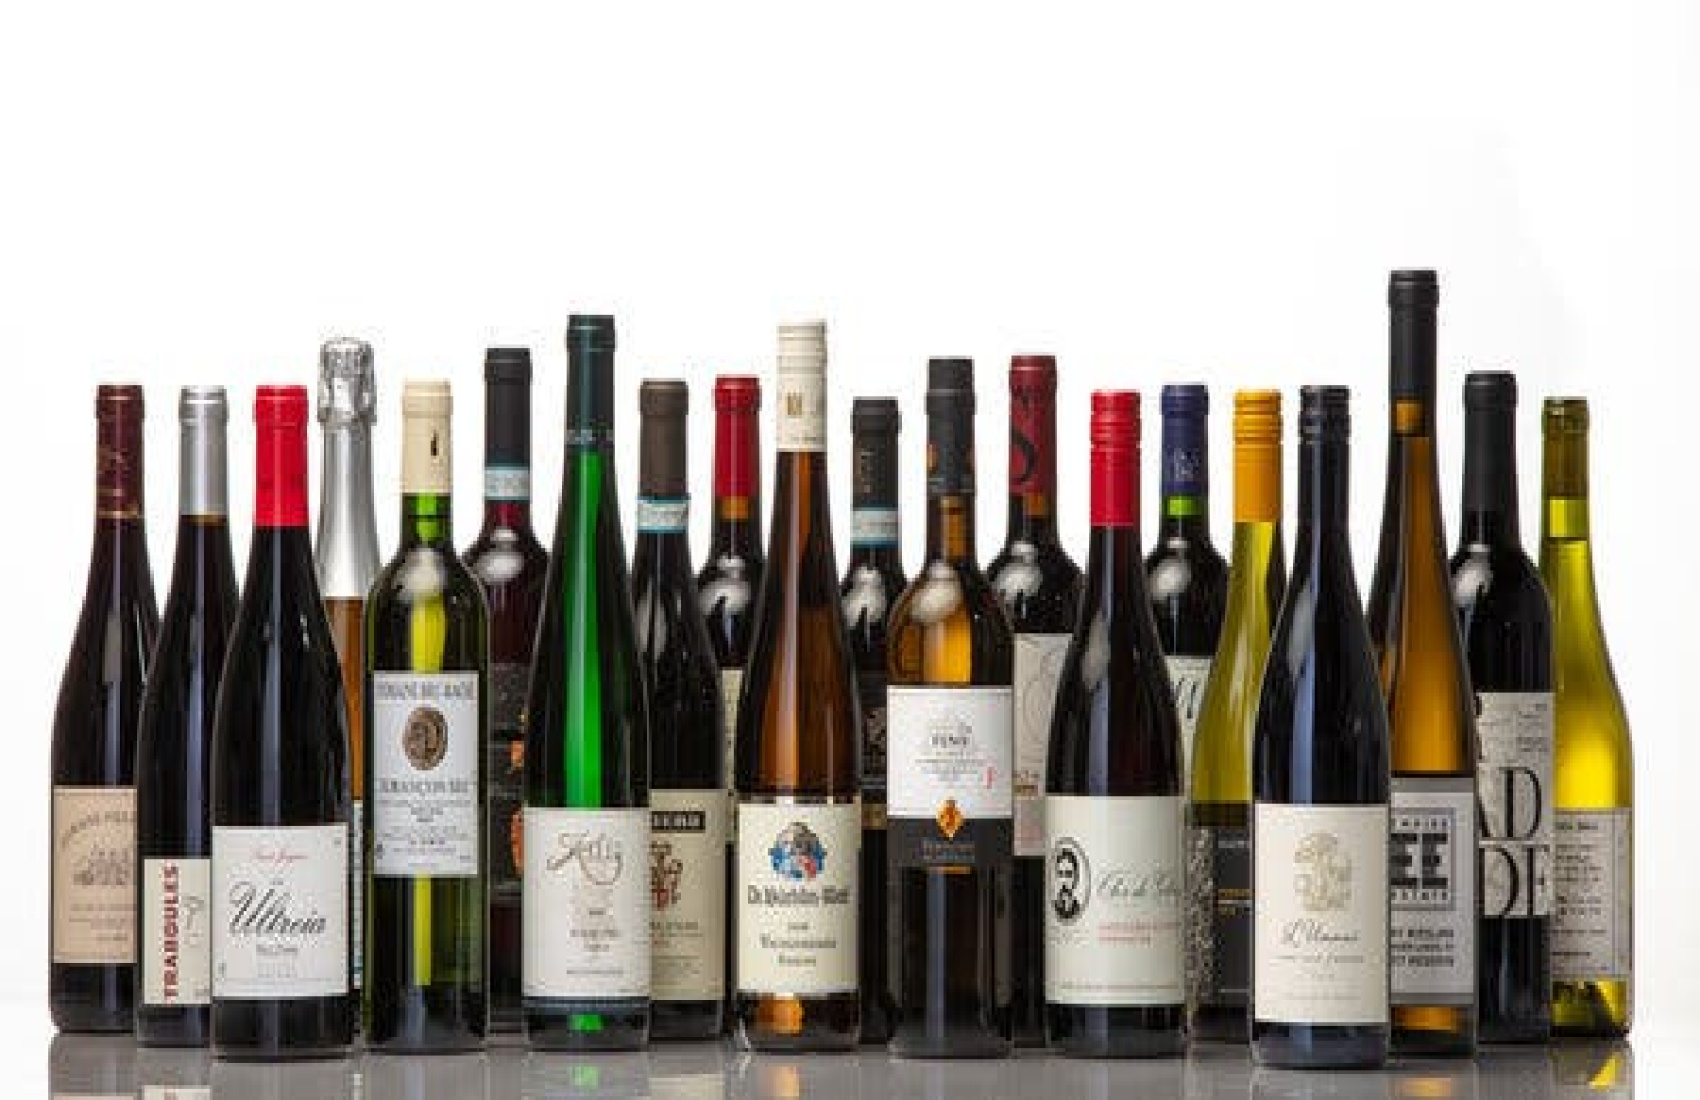wine: (524, 301, 659, 1044), (731, 301, 866, 1044), (883, 316, 1019, 1059), (1256, 320, 1391, 1062), (216, 388, 344, 1053), (370, 370, 486, 1044)
